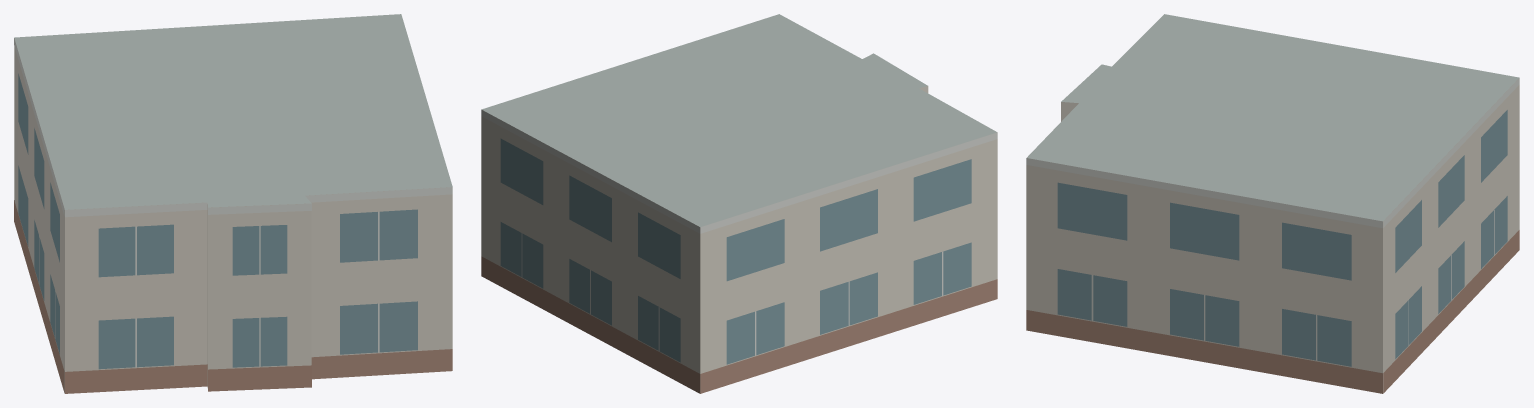
Rendered from survey-upis-32520780.glb.
The picture shows the model from 3 angles, left to right: view 1: azimuth 30°, elevation 25°; view 2: azimuth 150°, elevation 25°; view 3: azimuth 270°, elevation 25°; orthographic projection. The views are drawn at different scales.
Parts seen in each view (by area): view 1: survey-upis-32520780.tmp; view 2: survey-upis-32520780.tmp; view 3: survey-upis-32520780.tmp.
Boxes of the visible parts, box(x1,y1,x2,y2) form: survey-upis-32520780.tmp: box(14, 14, 452, 393); survey-upis-32520780.tmp: box(481, 14, 997, 393); survey-upis-32520780.tmp: box(1026, 14, 1519, 393).
Bounding box in the file's own units: 15.74 × 6.1 × 15.82.
